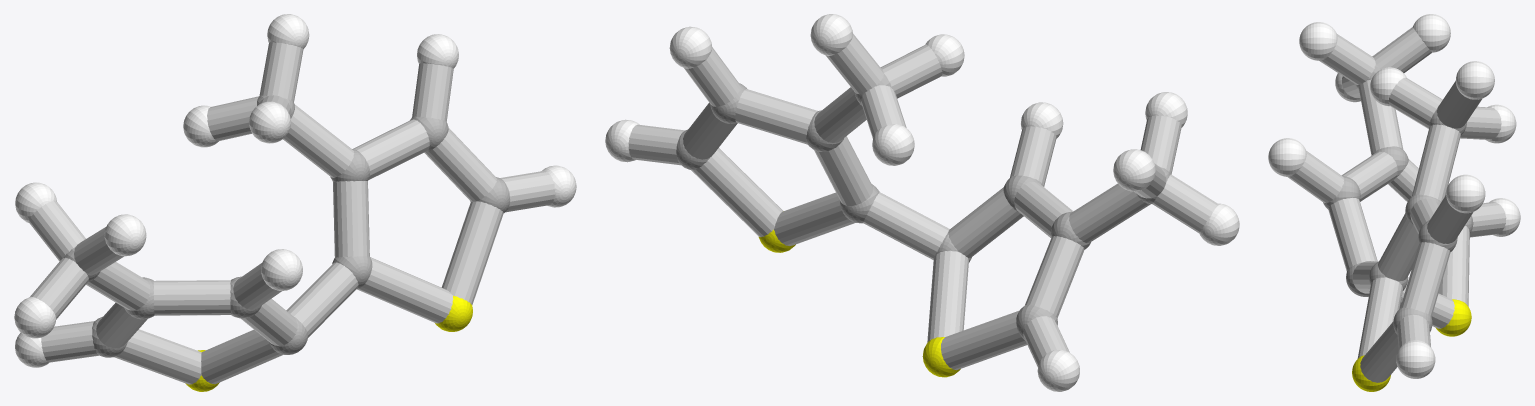
The model's file is Methylthiophene_Phi_50_Theta_120_Methylthiophene.glb.
The picture shows the model from 3 angles, left to right: view 1: azimuth 30°, elevation 25°; view 2: azimuth 150°, elevation 25°; view 3: azimuth 270°, elevation 25°; orthographic projection. The views are drawn at different scales.
Visible parts, largest first — view 1: grp7965, grp3621, grp1, grp7241; view 2: grp7965, grp3621, grp1, grp7241; view 3: grp7965, grp3621, grp1, grp7241.
Boxes of the visible parts, x1=… form: grp7965: x1=29, y1=42, x2=555, y2=384; grp3621: x1=14, y1=14, x2=576, y2=367; grp1: x1=63, y1=95, x2=510, y2=357; grp7241: x1=185, y1=295, x2=472, y2=391; grp7965: x1=628, y1=33, x2=1217, y2=370; grp3621: x1=605, y1=14, x2=1239, y2=391; grp1: x1=676, y1=74, x2=1170, y2=340; grp7241: x1=758, y1=229, x2=960, y2=377; grp7965: x1=1288, y1=27, x2=1506, y2=382; grp3621: x1=1268, y1=14, x2=1520, y2=378; grp1: x1=1323, y1=62, x2=1473, y2=334; grp7241: x1=1352, y1=299, x2=1471, y2=391.
Size of the model in its own units: 9.69 by 5.35 by 3.87.
